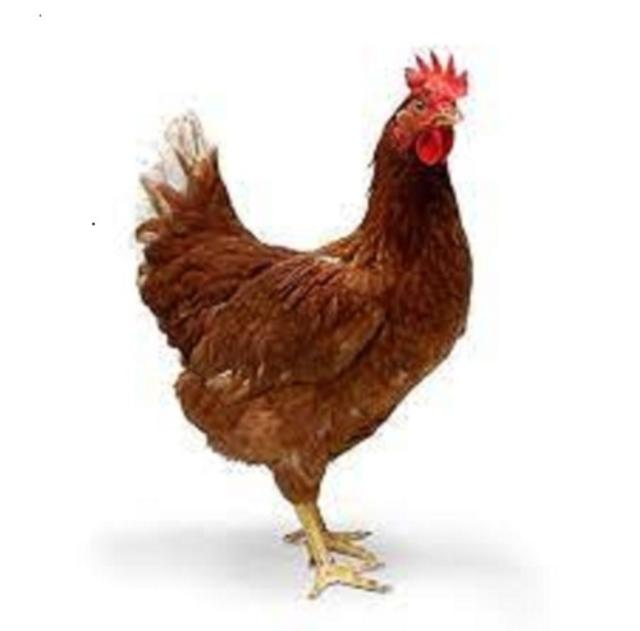Chicken: (134, 42, 476, 594)
